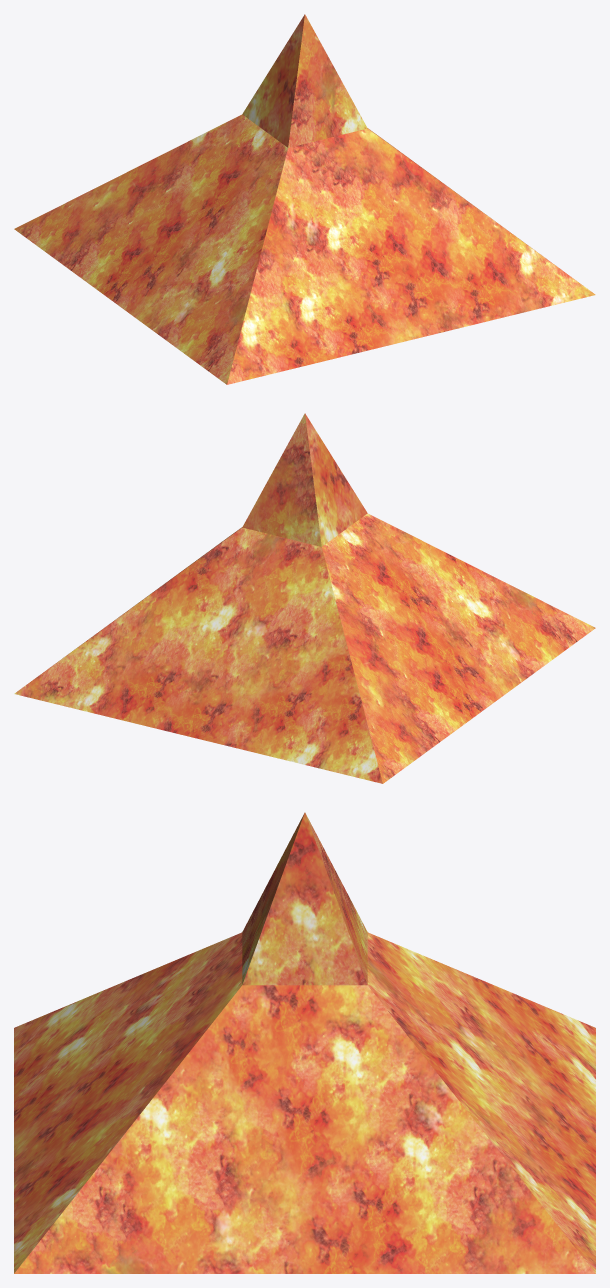
The model's file is SM_ICE_04_00.fbx.
3 views of the same model, one above another, from view 1: azimuth 30°, elevation 25°; view 2: azimuth 150°, elevation 25°; view 3: azimuth 270°, elevation 25° (orthographic). The views are drawn at different scales.
Visible parts, largest first — view 1: SM_ICE_04_00; view 2: SM_ICE_04_00; view 3: SM_ICE_04_00.
Boxes of the visible parts, <box> form: SM_ICE_04_00: <box>14,14,595,384</box>; SM_ICE_04_00: <box>14,413,595,783</box>; SM_ICE_04_00: <box>14,812,595,1273</box>.
Bounding box in the file's own units: 3116 × 2001 × 3116.
